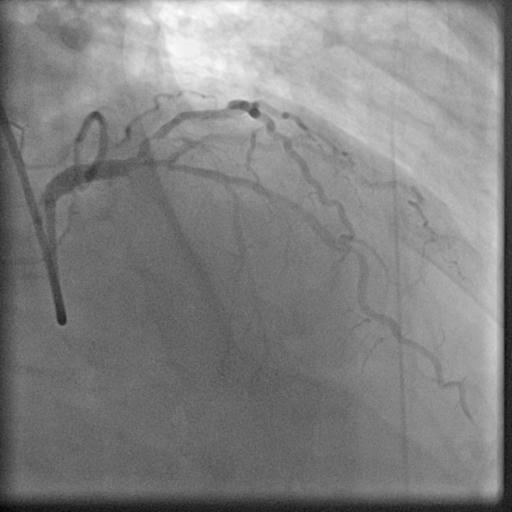Stenosis: (139, 125, 160, 147)
